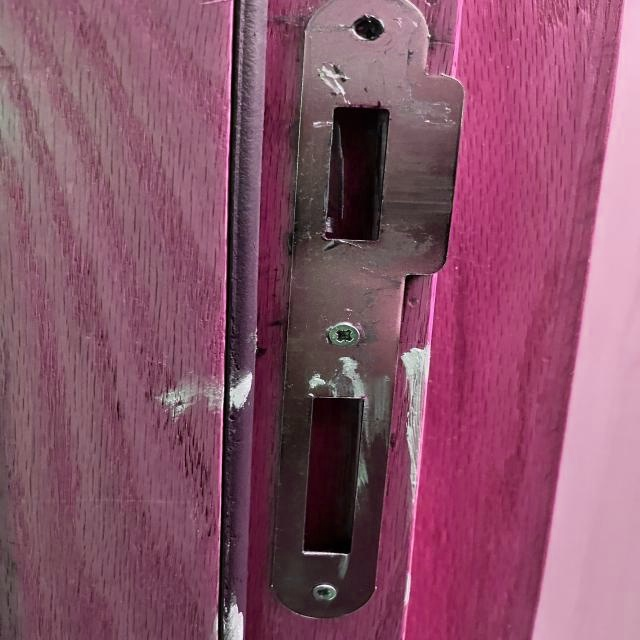pozidriv: (328, 324, 360, 347)
